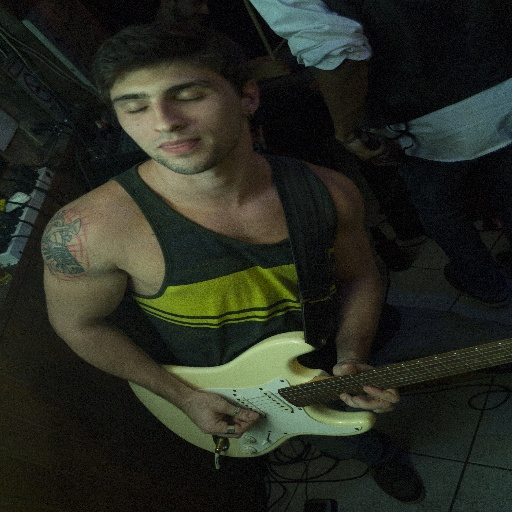hand: (142, 381, 270, 444), (332, 362, 401, 416), (333, 128, 402, 167)
